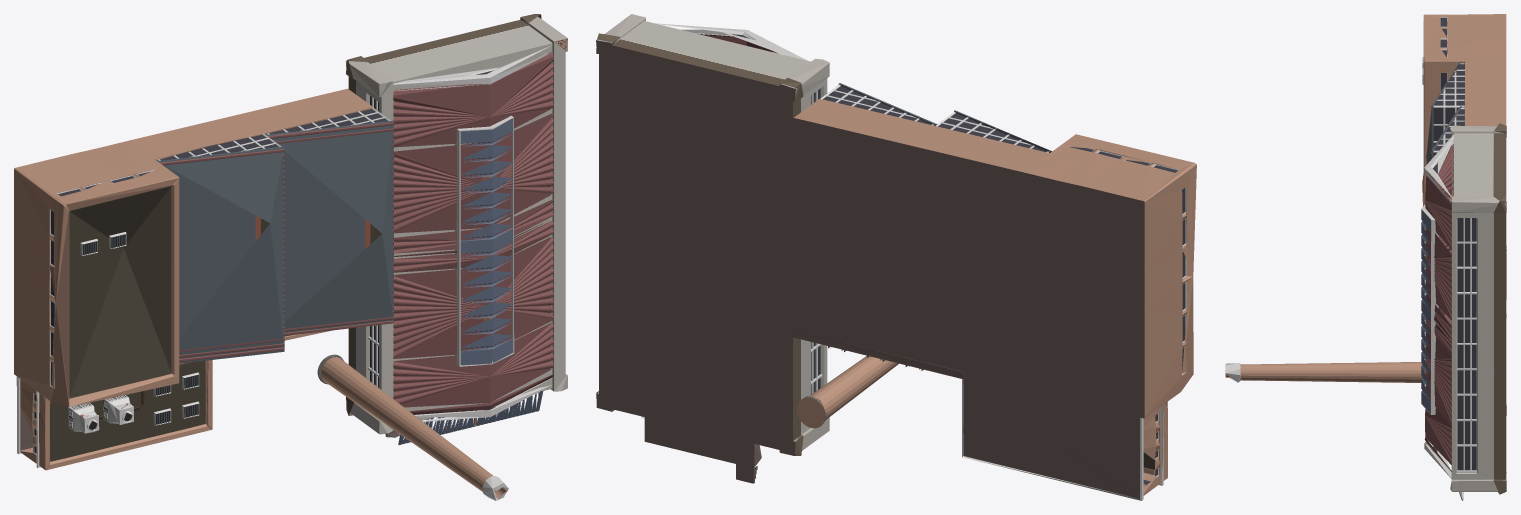
Rendered from GasFactory.obj.
3 views of the same model, side by side, from view 1: azimuth 30°, elevation 25°; view 2: azimuth 150°, elevation 25°; view 3: azimuth 270°, elevation 25° (orthographic). The views are drawn at different scales.
Visible parts, largest first — view 1: FasFactory.1; view 2: FasFactory.1; view 3: FasFactory.1.
Part boxes in pixels (x1,y1,x2,y2): FasFactory.1: (14, 14, 567, 500); FasFactory.1: (596, 14, 1196, 500); FasFactory.1: (1225, 14, 1506, 500).
Size of the model in its own units: 80.42 by 57.11 by 45.06.
Materials: 1 (1 with a texture image).
